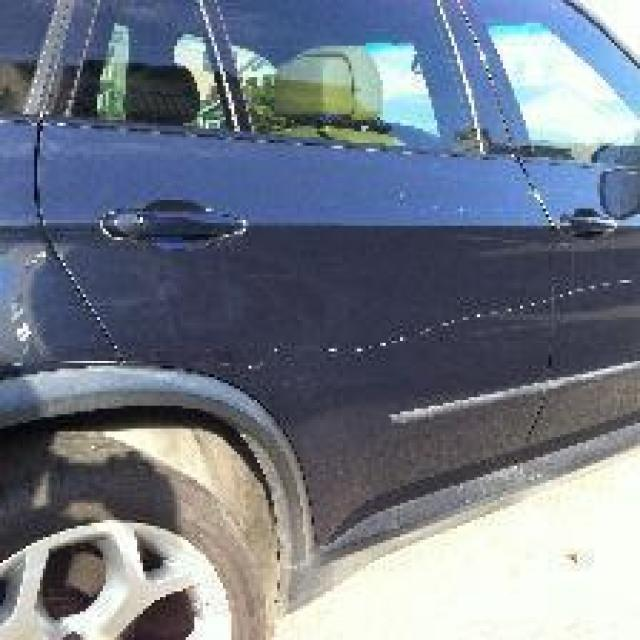damaged: (8, 277, 638, 369)
